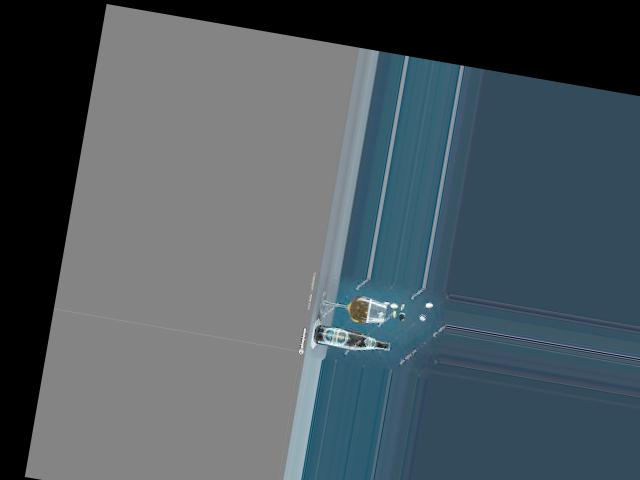beer: (314, 324, 391, 355)
